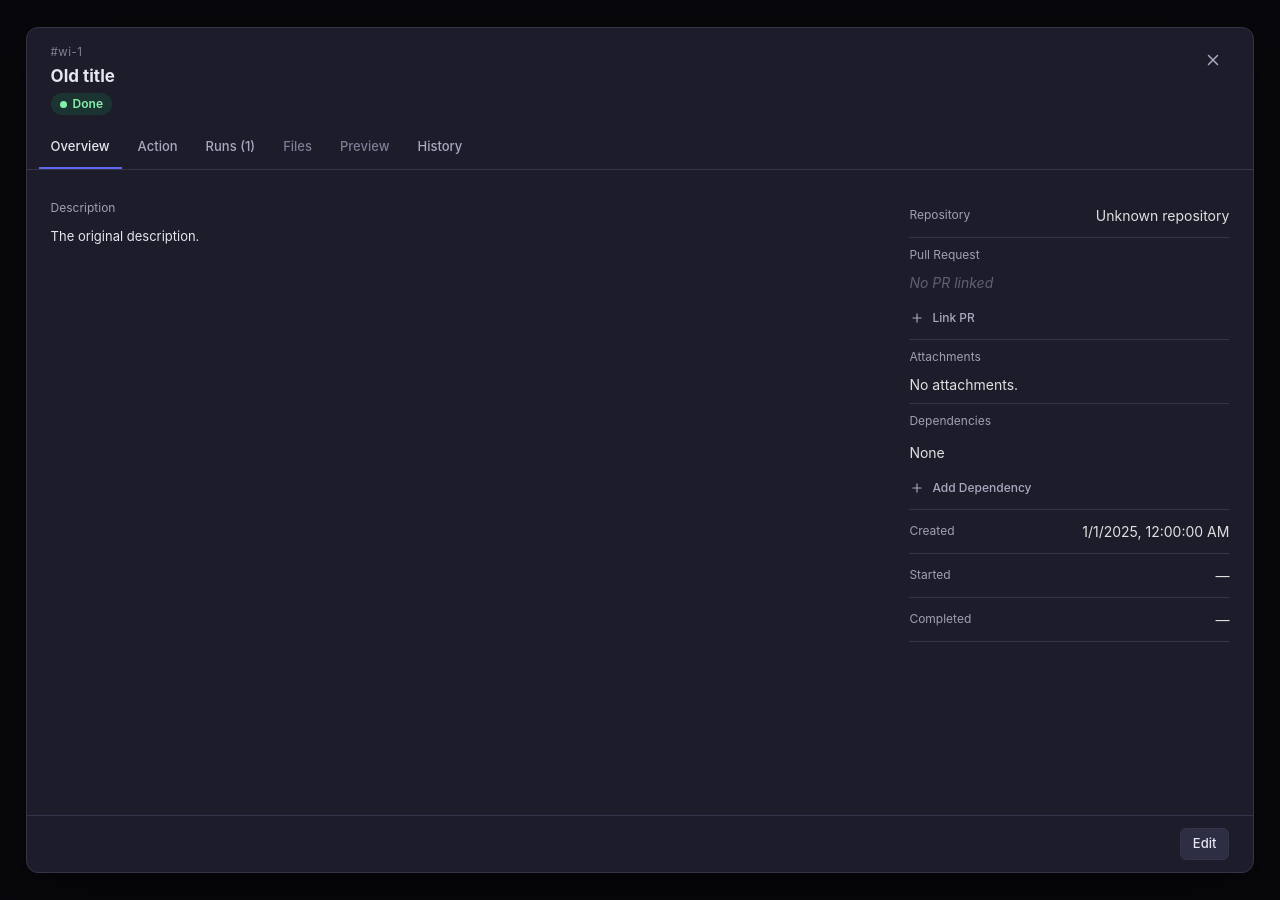
Test: edit proposals in the detail view › approving re-reads the cards and the approved card stays where it was
Click the tab "Action".
click(158, 148)  # box [126,127,190,169]
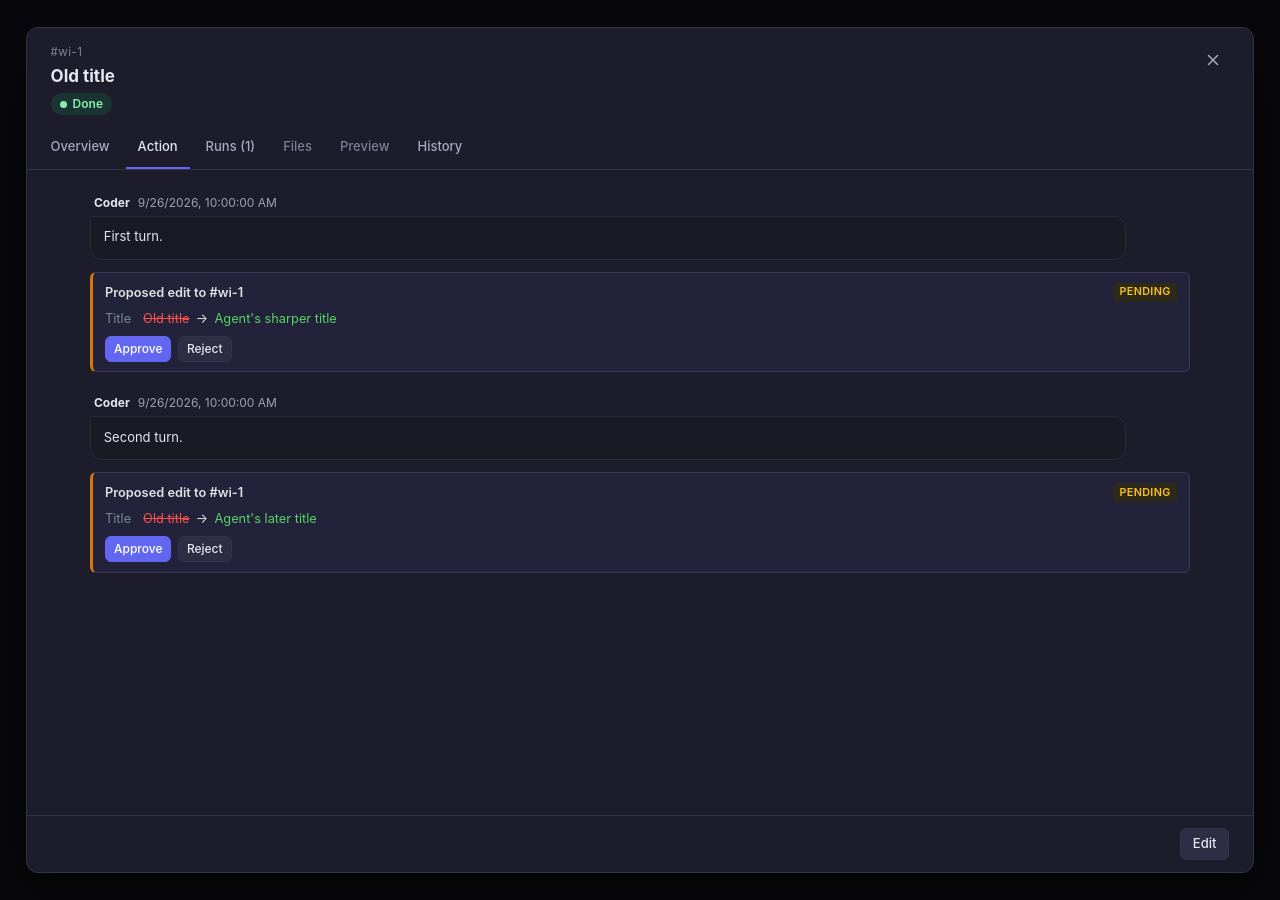
Click the button "Approve" below "Agent's sharper title".
click(138, 349)  # box [105,336,172,362]
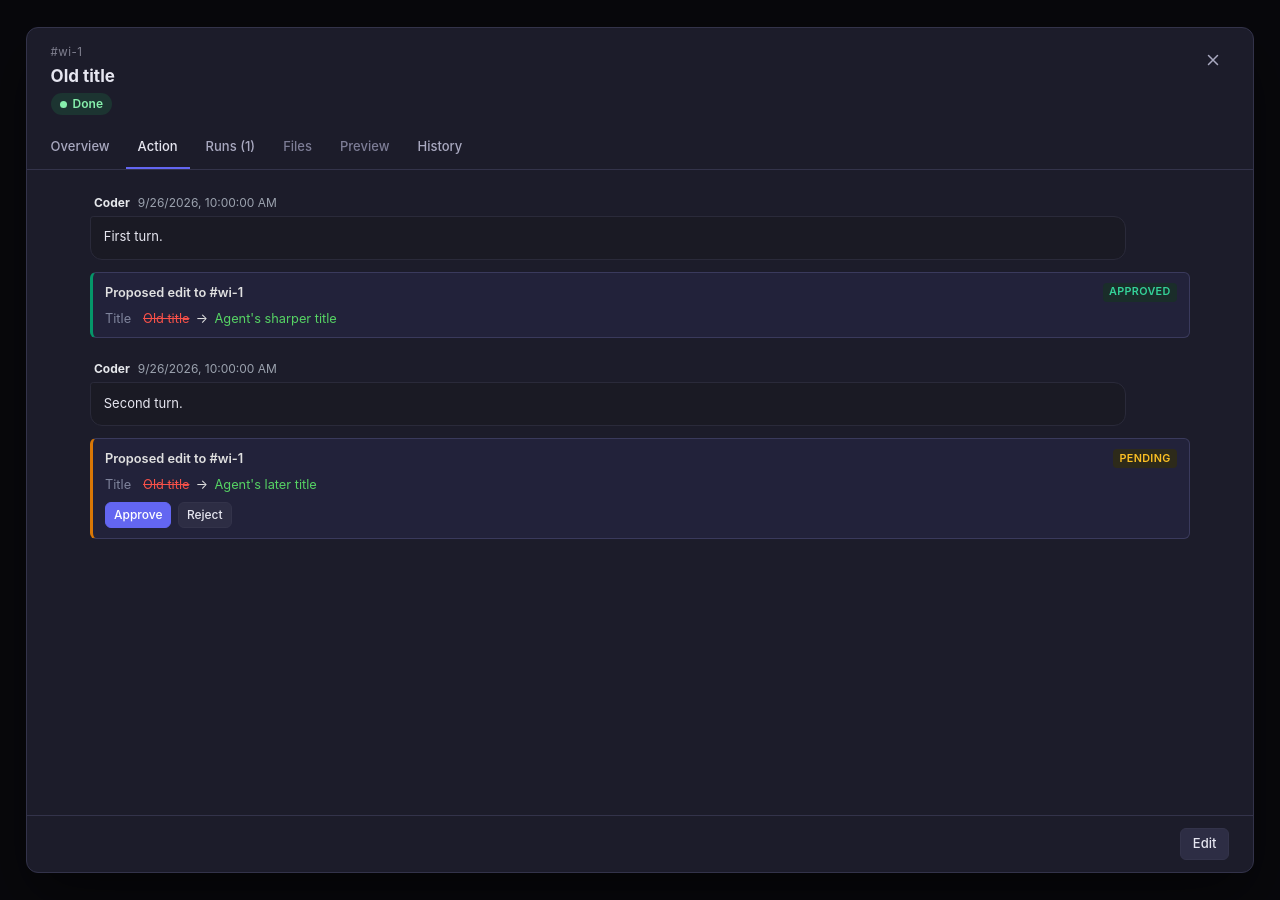
expect the text "Agent's sharper title" shows "Approved": met, box [1109,285,1171,298]
